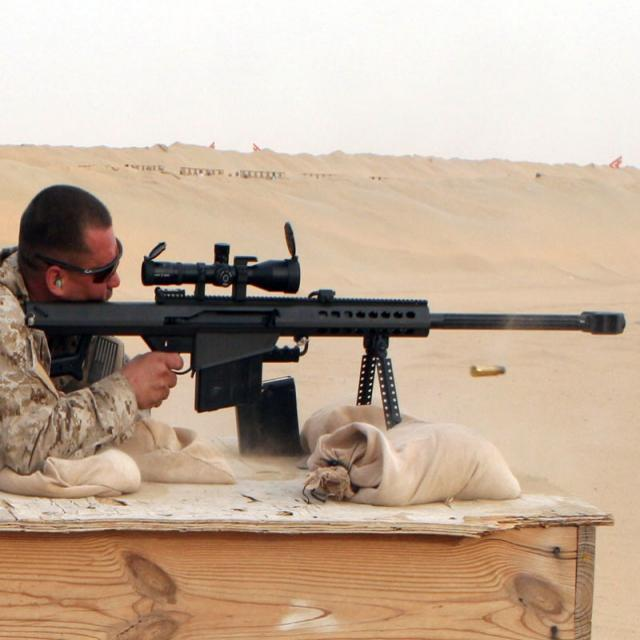rifle: (29, 243, 630, 424)
